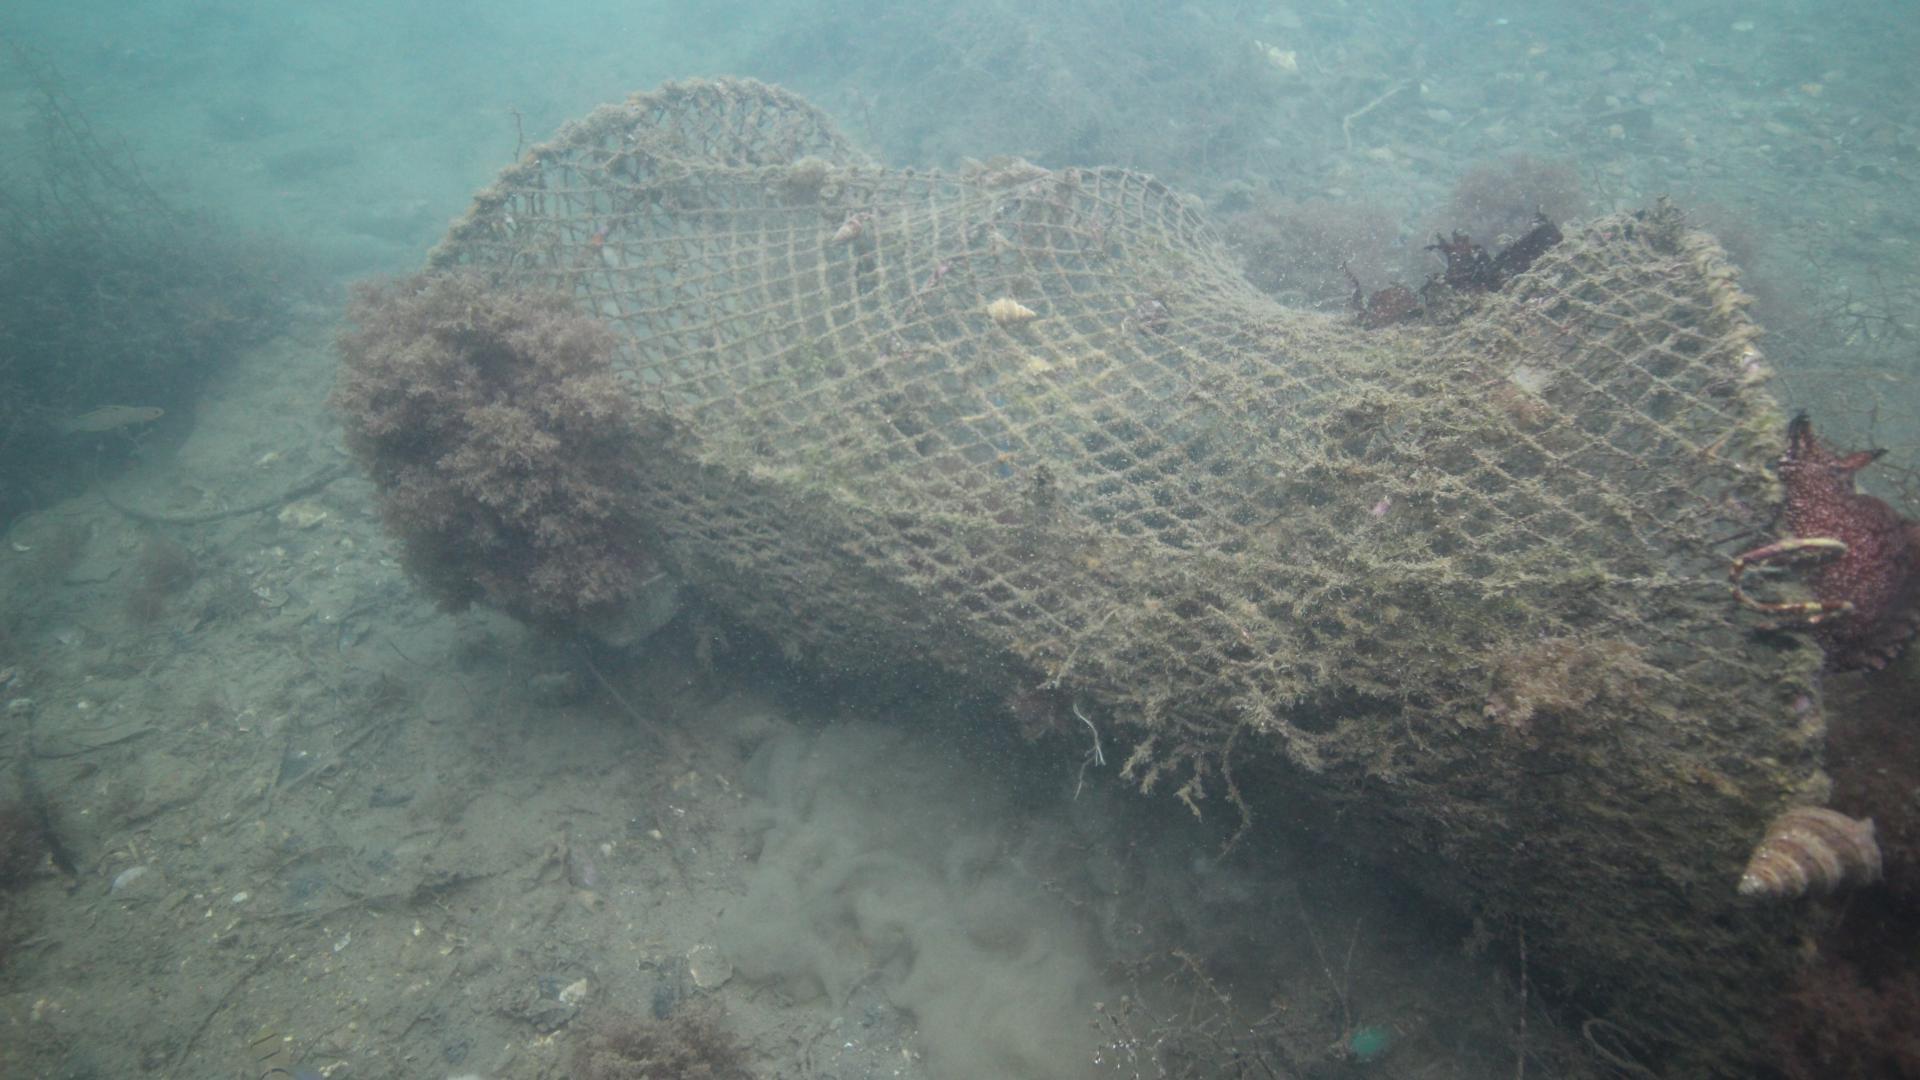spring fish trap: (372, 74, 1836, 1080)
